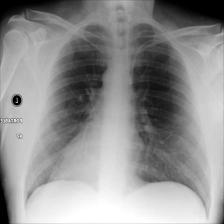normal: (21, 16, 214, 221)
